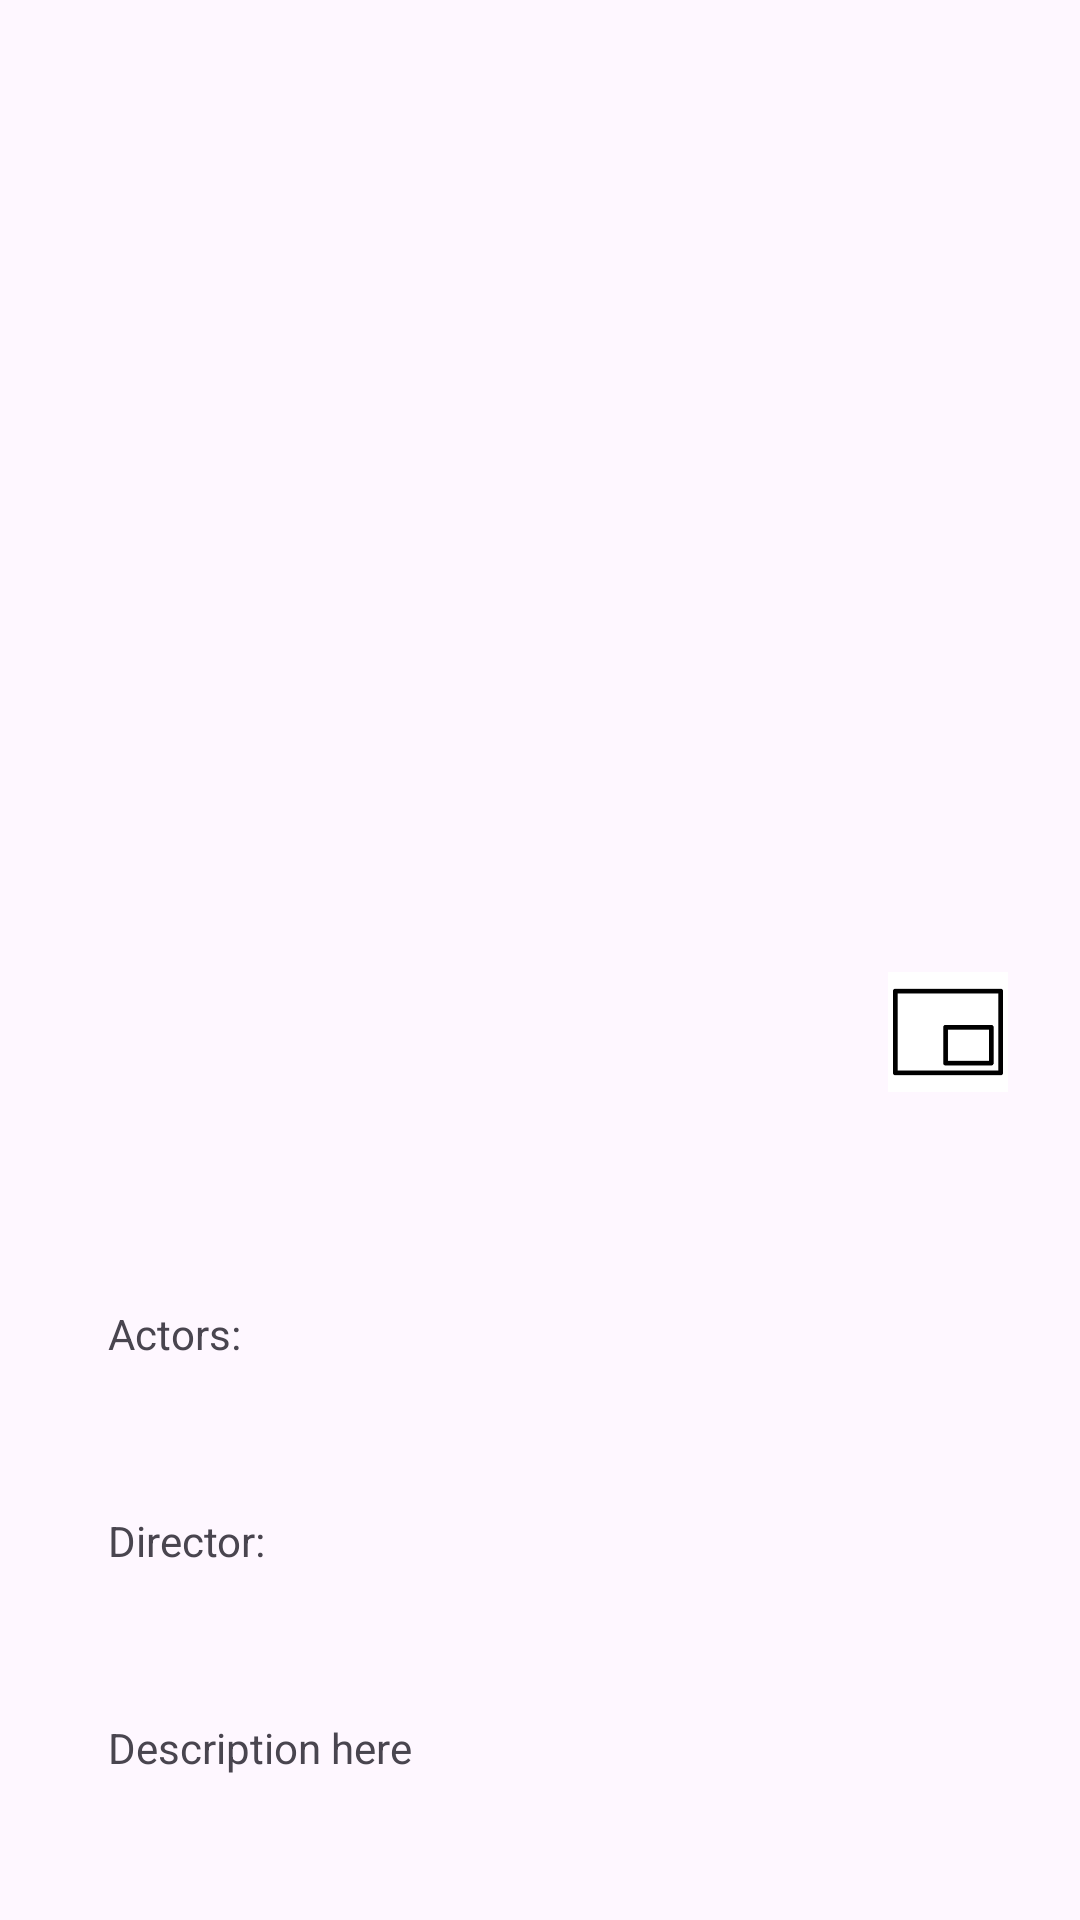

Screen size 1080x1920. Icon name, then its center in pixels as (x=x, y=y):
pip: (x=948, y=1032)
